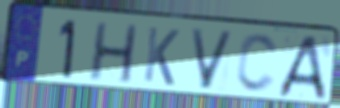1: (57, 18, 78, 80)
A: (276, 35, 329, 101)
C: (234, 31, 281, 96)
H: (87, 21, 140, 86)
K: (141, 24, 182, 89)
V: (188, 26, 237, 91)
